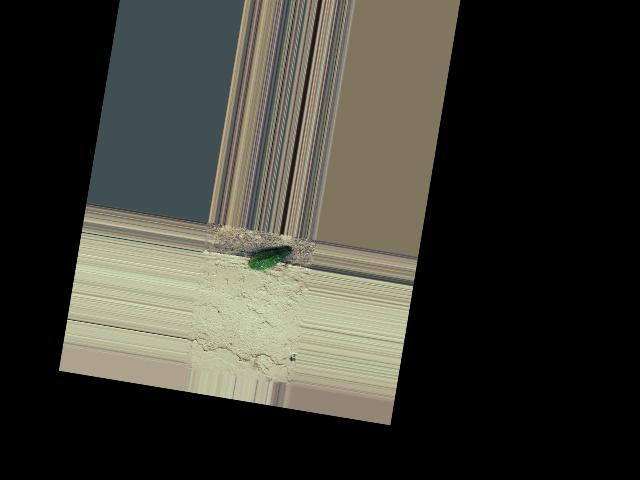cucumber: (246, 241, 291, 275)
